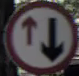Two way: (19, 5, 72, 63)
